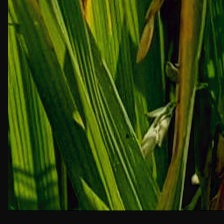Leaf_Blast: (157, 0, 199, 199)
